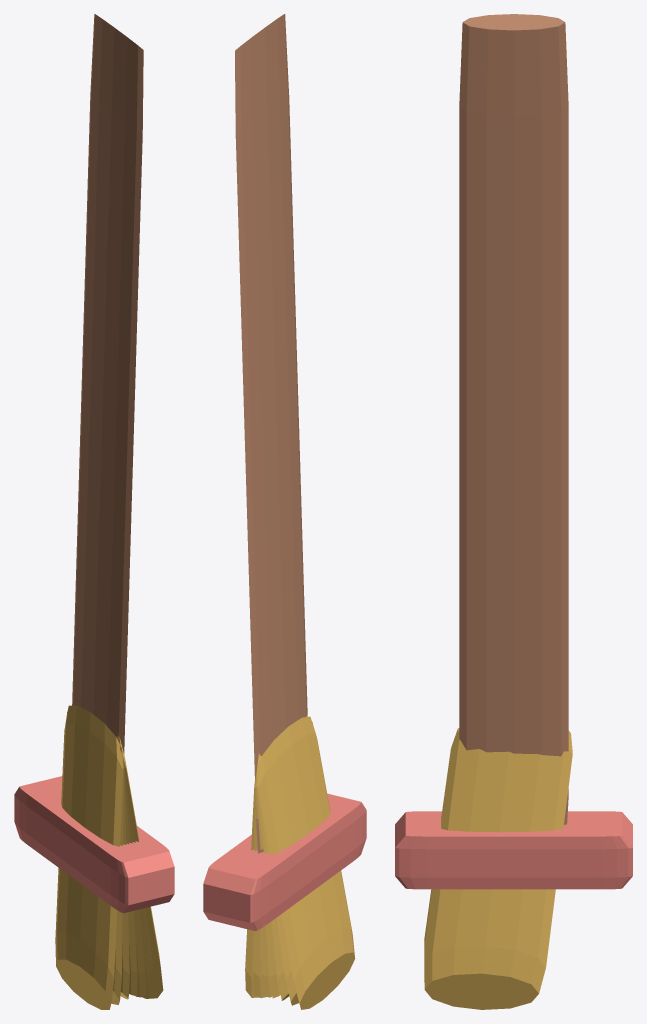
Rendered from broom.glb.
3 views of the same model, side by side, from view 1: azimuth 30°, elevation 25°; view 2: azimuth 150°, elevation 25°; view 3: azimuth 270°, elevation 25° (orthographic). The views are drawn at different scales.
Visible parts, largest first — view 1: model; view 2: model; view 3: model.
Boxes of the visible parts, box(x1,y1,x2,y2) form: model: box(14, 14, 174, 1009); model: box(203, 14, 366, 1009); model: box(395, 14, 632, 1009).
Size of the model in its own units: 0.08 by 1.2 by 0.26.
